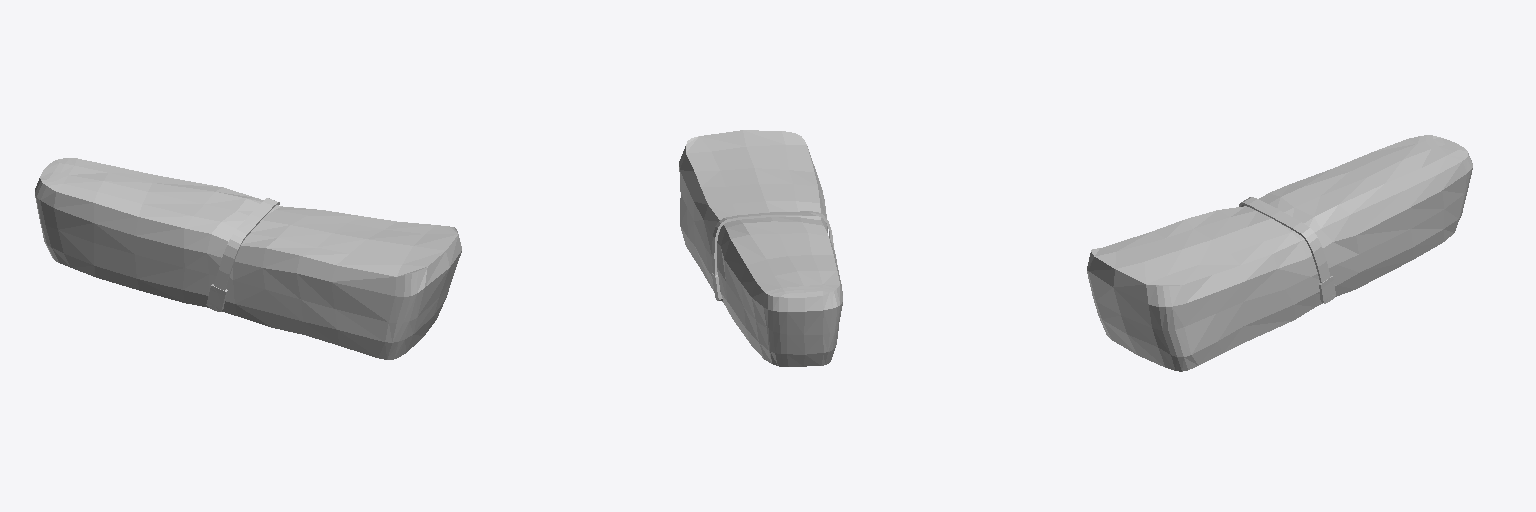
File: vespa_seat.obj
The picture shows the model from 3 angles: view 1: azimuth 30°, elevation 25°; view 2: azimuth 150°, elevation 25°; view 3: azimuth 270°, elevation 25°; orthographic projection.
Size of the model in its own units: 50.31 by 17.87 by 58.27.